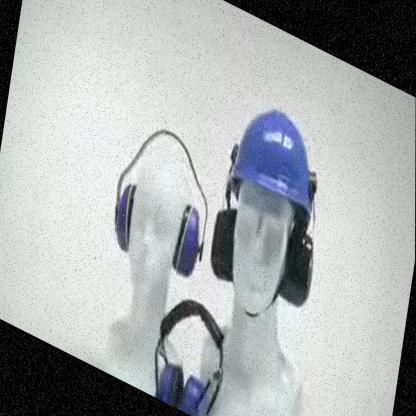capacete: (228, 98, 324, 214)
